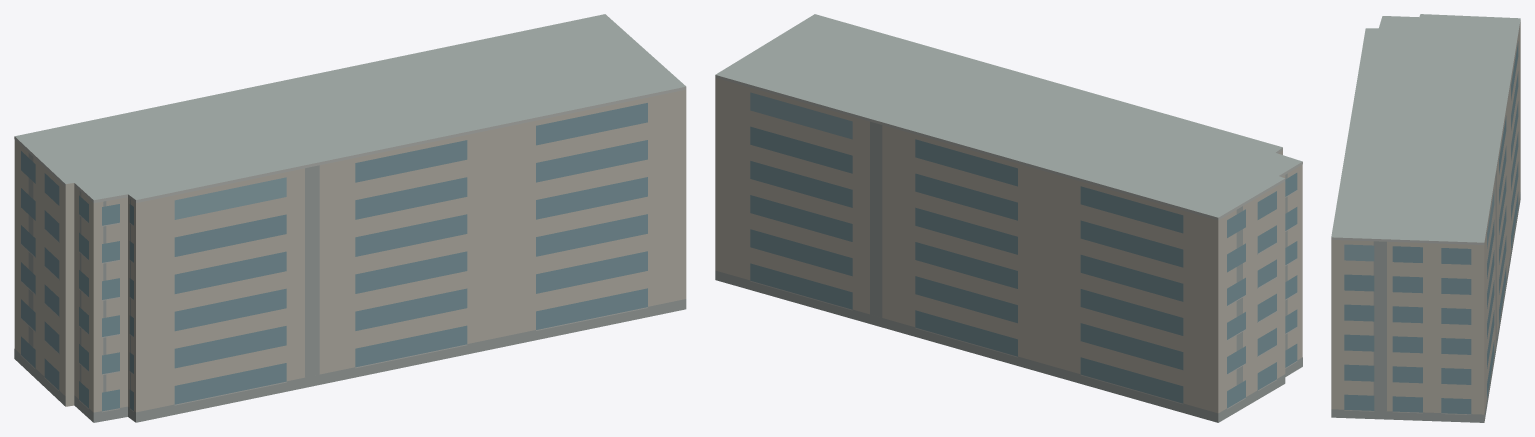
File: survey-upis-32872795.glb
The picture shows the model from 3 angles, left to right: view 1: azimuth 30°, elevation 25°; view 2: azimuth 150°, elevation 25°; view 3: azimuth 270°, elevation 25°; orthographic projection. The views are drawn at different scales.
Visible parts, largest first — view 1: survey-upis-32872795.tmp; view 2: survey-upis-32872795.tmp; view 3: survey-upis-32872795.tmp.
Part boxes in pixels (x1,y1,x2,y2): survey-upis-32872795.tmp: (14, 14, 686, 422); survey-upis-32872795.tmp: (715, 14, 1302, 422); survey-upis-32872795.tmp: (1331, 14, 1520, 422).
Bounding box in the file's own units: 49.25 × 18.09 × 17.25.
